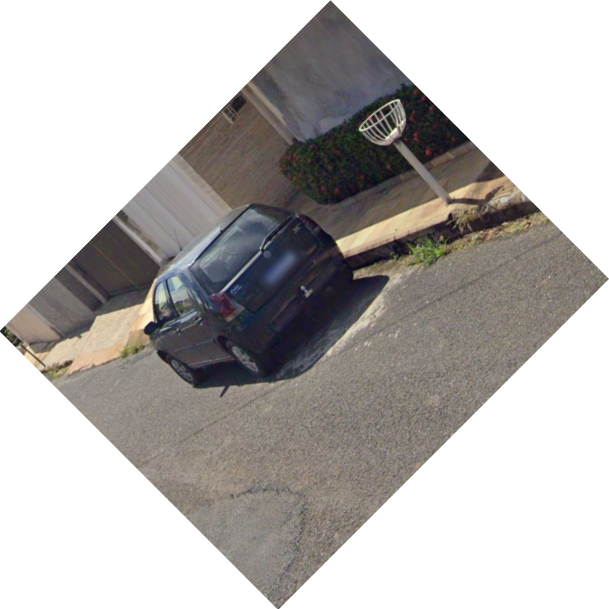car: (140, 199, 358, 399)
